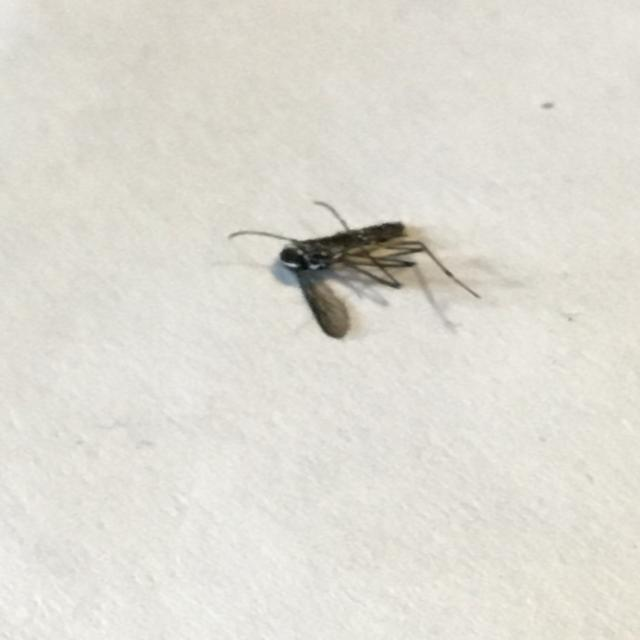albopictus: (221, 183, 477, 343)
